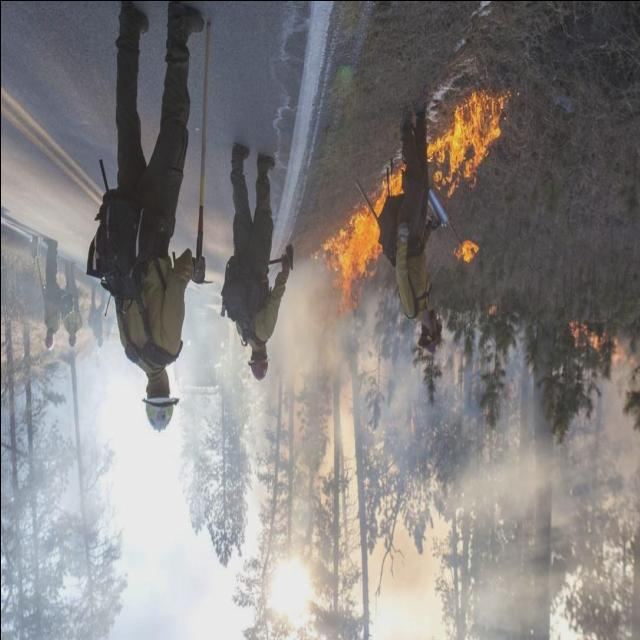Fire: (313, 168, 404, 304), (426, 90, 498, 200), (569, 319, 627, 369), (458, 239, 478, 263)
